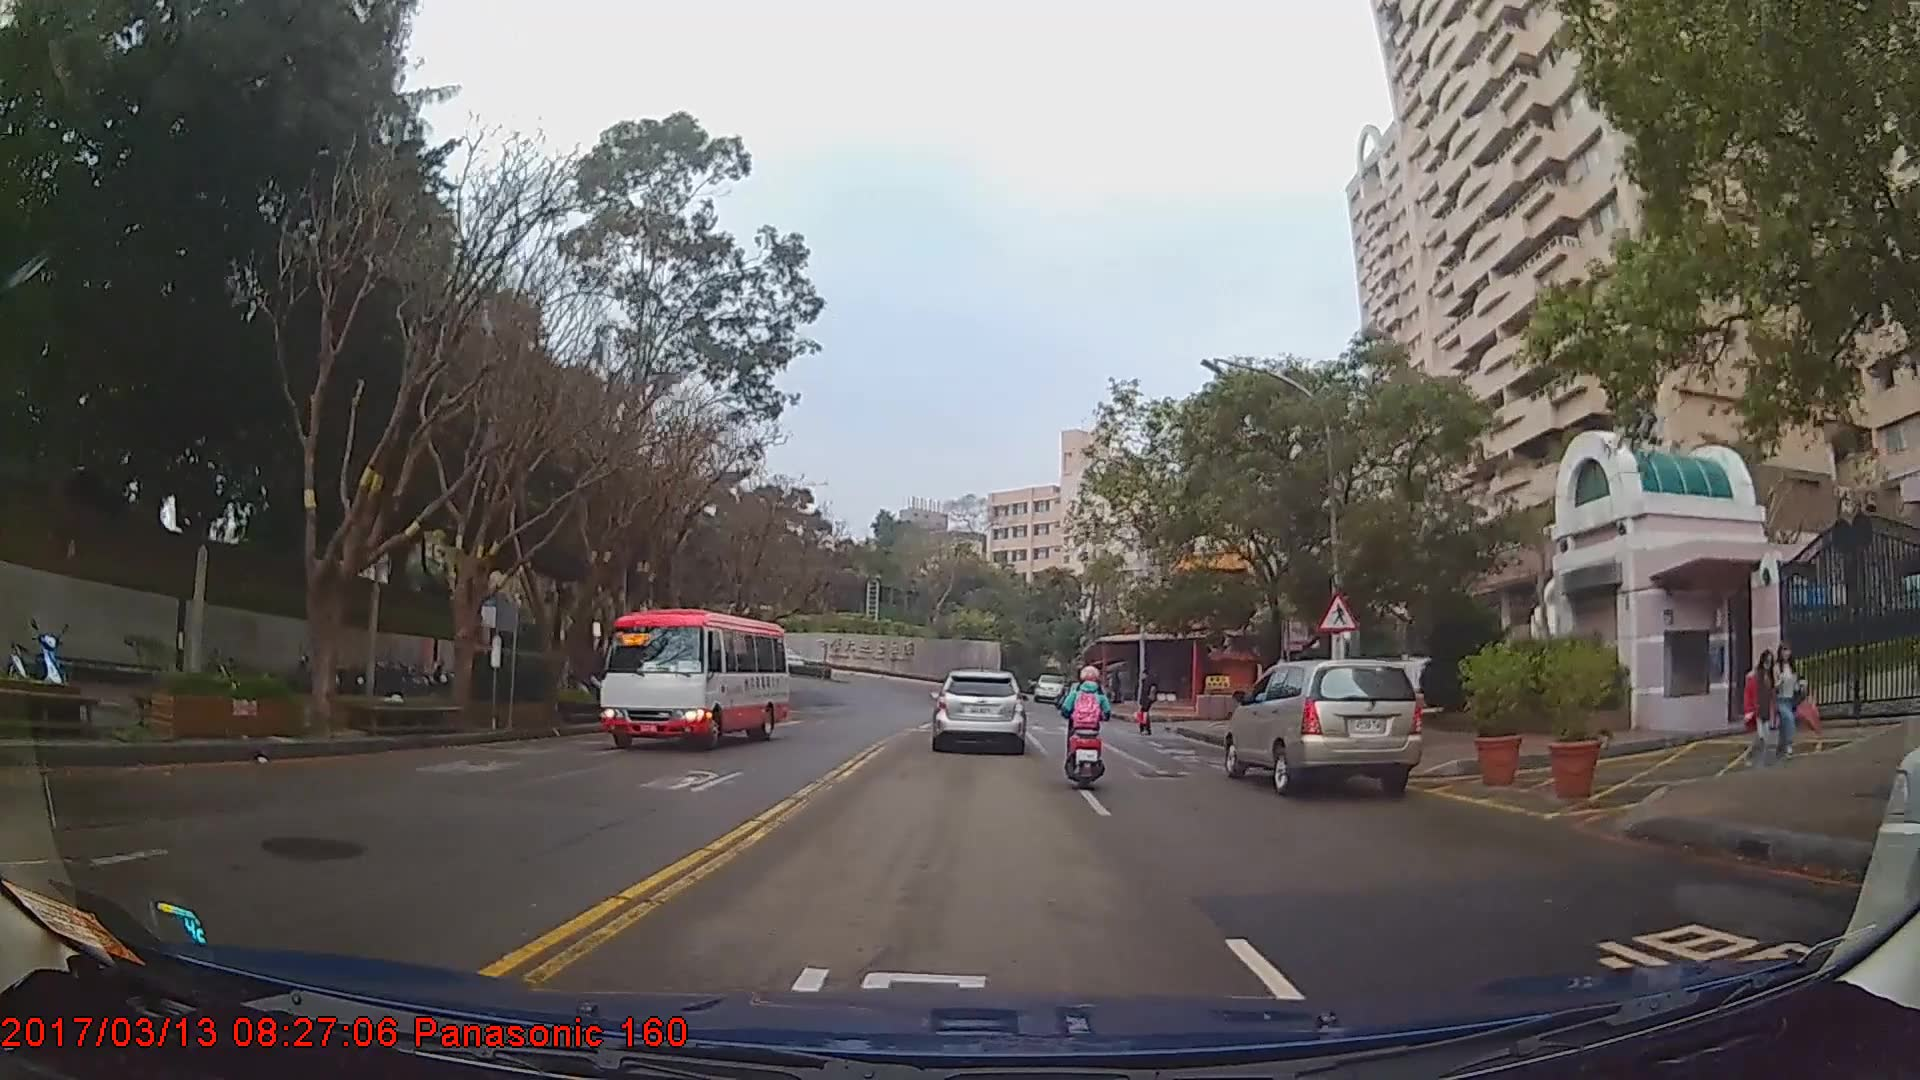pedestrian: (1738, 639, 1786, 781), (1770, 628, 1813, 770), (1134, 669, 1161, 741)
rider: (1061, 664, 1116, 793)
vehicle: (596, 607, 790, 750), (1222, 658, 1421, 798), (929, 668, 1026, 755), (1032, 674, 1065, 702)
